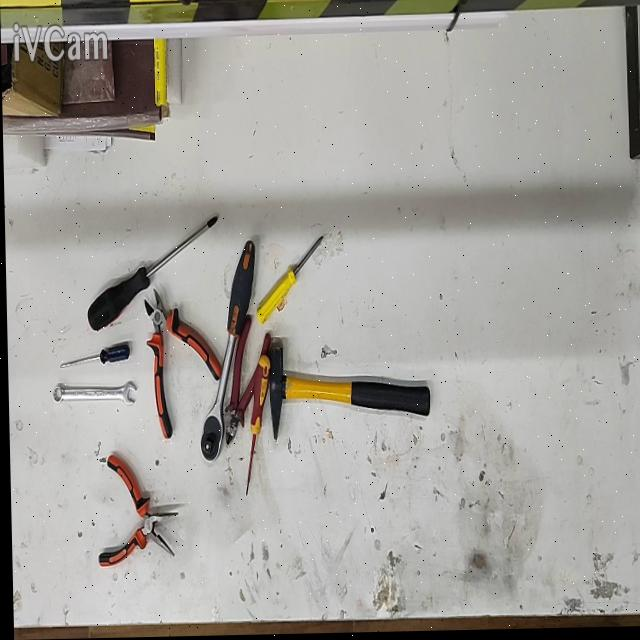Screwdriver: (86, 217, 216, 332), (255, 235, 322, 324), (243, 356, 269, 498), (58, 346, 128, 368)
